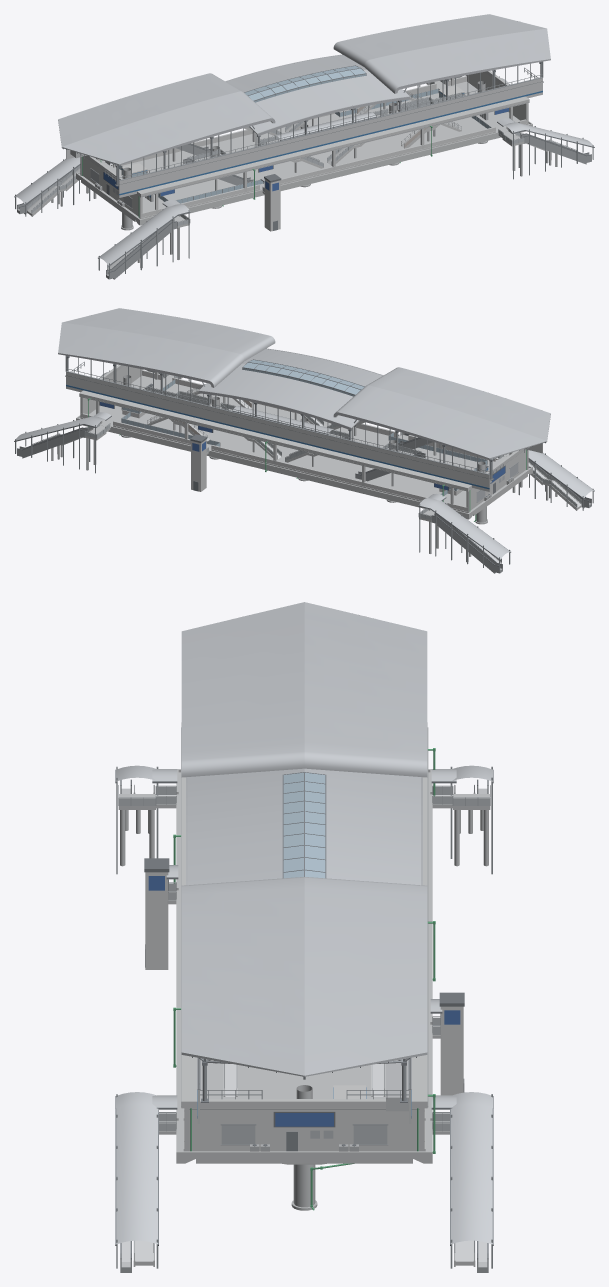
The picture shows the model from 3 angles, top to bottom: view 1: azimuth 30°, elevation 25°; view 2: azimuth 150°, elevation 25°; view 3: azimuth 270°, elevation 25°; orthographic projection. The views are drawn at different scales.
Visible parts, largest first — view 1: BL05, BL05_conc, BL05_access; view 2: BL05, BL05_conc, BL05_access; view 3: BL05, BL05_access, BL05_conc.
Boxes of the visible parts, x1=… form: BL05: x1=58, y1=14, x2=550, y2=197; BL05_conc: x1=76, y1=70, x2=532, y2=230; BL05_access: x1=14, y1=75, x2=594, y2=279; BL05: x1=58, y1=308, x2=550, y2=491; BL05_conc: x1=76, y1=364, x2=532, y2=524; BL05_access: x1=14, y1=370, x2=594, y2=573; BL05: x1=181, y1=602, x2=427, y2=1123; BL05_access: x1=115, y1=748, x2=493, y2=1272; BL05_conc: x1=176, y1=722, x2=432, y2=1210.
Size of the model in its own units: 126 by 28 by 42.5.
